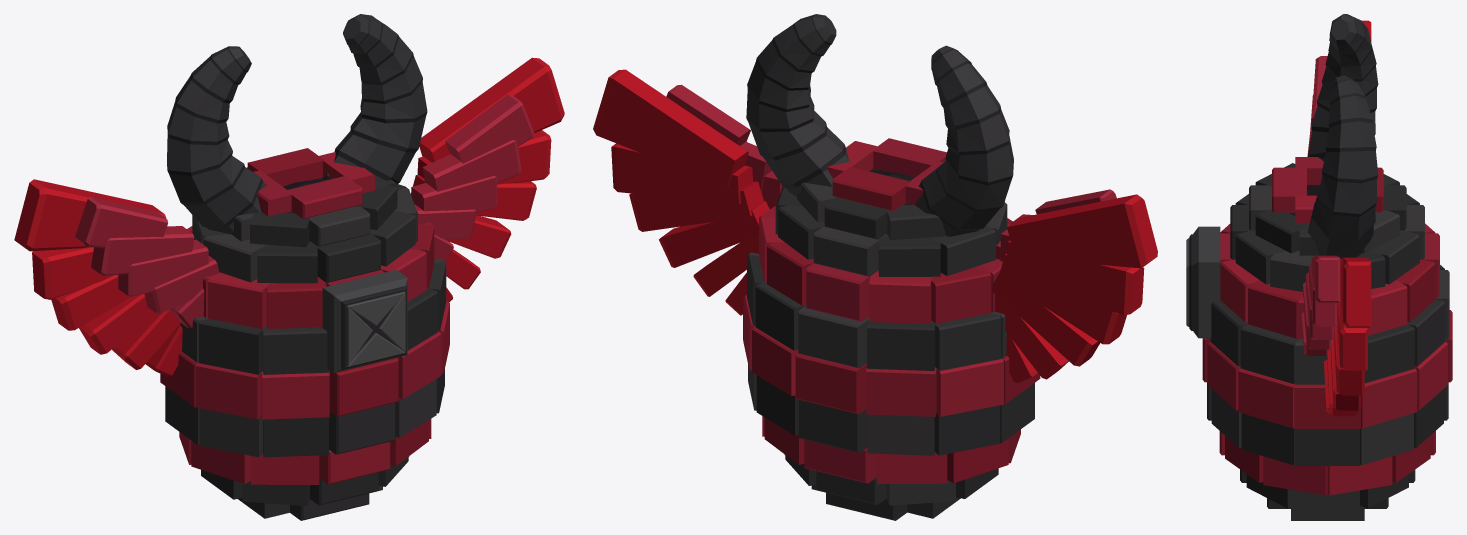
File: Crimson Horn Egg.fbx
3 renders of one model, left to right at view 1: azimuth 30°, elevation 25°; view 2: azimuth 150°, elevation 25°; view 3: azimuth 270°, elevation 25°, orthographic. The views are drawn at different scales.
Visible parts, largest first — view 1: L | Curved basalt horn, R | Curved basalt horn, R | Primary 06, L | Primary 06, R | Covert 05, Band 05 | Plate 01, Band 05 | Plate 12, L | Covert 05, Band 05 | Plate 11, Band 06 | Plate 12, Band 06 | Plate 11, Square iron bezel (+53 smaller); view 2: L | Curved basalt horn, R | Curved basalt horn, R | Primary 06, L | Primary 06, L | Primary 05, R | Primary 05, R | Primary 04, Band 05 | Plate 07, Band 06 | Plate 07, Band 05 | Plate 08, Band 06 | Plate 08, L | Primary 04 (+41 smaller); view 3: R | Curved basalt horn, L | Curved basalt horn, Square iron bezel, Band 06 | Plate 03, Band 05 | Plate 03, Band 05 | Plate 05, Band 04 | Plate 04, Band 07 | Plate 03, Band 06 | Plate 05, R | Primary 06, Band 04 | Plate 03, Band 04 | Plate 05 (+48 smaller).
Boxes of the visible parts, box(x1,y1,x2,y2) form: L | Curved basalt horn: box(167, 46, 266, 234); R | Curved basalt horn: box(321, 14, 427, 184); R | Primary 06: box(419, 57, 564, 162); L | Primary 06: box(14, 179, 166, 251); R | Covert 05: box(445, 94, 533, 163); Band 05 | Plate 01: box(329, 358, 398, 416); Band 05 | Plate 12: box(261, 371, 329, 419); L | Covert 05: box(75, 196, 167, 248); Band 05 | Plate 11: box(195, 362, 262, 419); Band 06 | Plate 12: box(262, 326, 328, 374); Band 06 | Plate 11: box(198, 318, 266, 374); Square iron bezel: box(322, 269, 407, 372); L | Curved basalt horn: box(909, 45, 1013, 236); R | Curved basalt horn: box(746, 14, 849, 196); R | Primary 06: box(593, 69, 748, 186); L | Primary 06: box(1007, 194, 1157, 268); L | Primary 05: box(1006, 240, 1144, 315); R | Primary 05: box(611, 143, 752, 204); R | Primary 04: box(629, 181, 763, 231); Band 05 | Plate 07: box(795, 353, 866, 413); Band 06 | Plate 07: box(798, 305, 869, 368); Band 05 | Plate 08: box(866, 367, 936, 416); Band 06 | Plate 08: box(867, 319, 935, 370); L | Primary 04: box(998, 254, 1126, 344); R | Curved basalt horn: box(1308, 75, 1378, 259); L | Curved basalt horn: box(1308, 14, 1378, 161); Square iron bezel: box(1193, 226, 1220, 338); Band 06 | Plate 03: box(1240, 324, 1300, 384); Band 05 | Plate 03: box(1238, 368, 1294, 428); Band 05 | Plate 05: box(1361, 368, 1416, 428); Band 04 | Plate 04: box(1295, 429, 1359, 465); Band 07 | Plate 03: box(1248, 280, 1303, 338); Band 06 | Plate 05: box(1364, 324, 1414, 383); R | Primary 06: box(1340, 257, 1371, 327); Band 04 | Plate 03: box(1241, 413, 1295, 465); Band 04 | Plate 05: box(1360, 413, 1413, 465).
Size of the model in its own units: 395 by 317 by 171.
